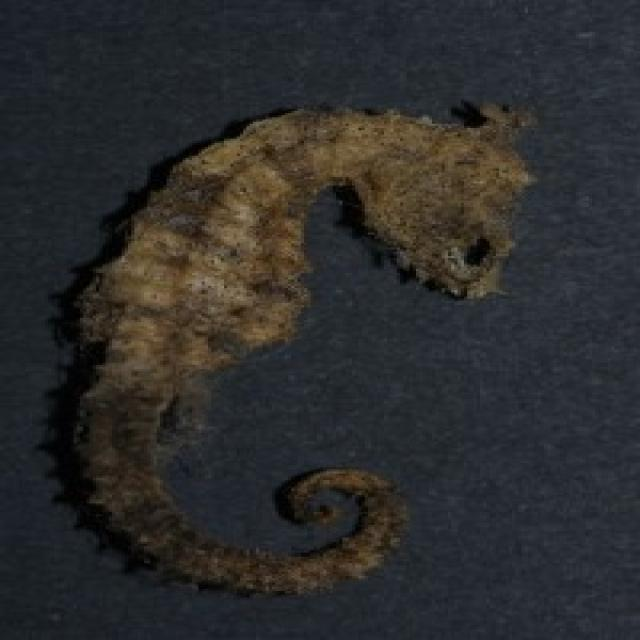Seahorse: (49, 93, 576, 607)
